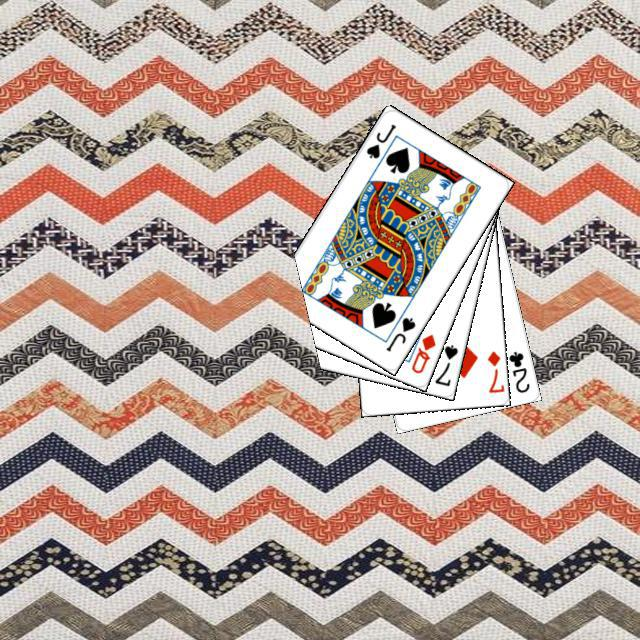2c: (504, 346, 531, 394)
7d: (483, 346, 504, 395)
7s: (430, 339, 460, 388)
Js: (361, 119, 398, 160), (381, 312, 417, 353)
Qd: (406, 329, 437, 375)
